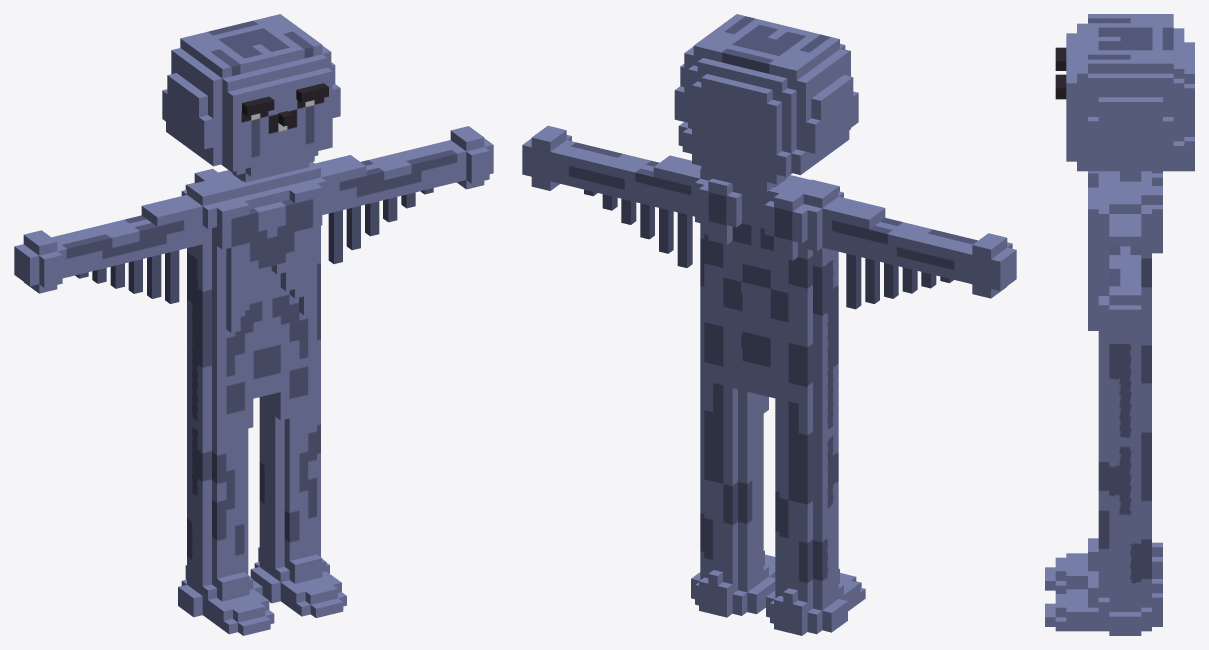
3 views of the same model, side by side, from view 1: azimuth 30°, elevation 25°; view 2: azimuth 150°, elevation 25°; view 3: azimuth 270°, elevation 25° (orthographic). The views are drawn at different scales.
Visible parts, largest first — view 1: potwor_potwor1.001; view 2: potwor_potwor1.001; view 3: potwor_potwor1.001.
Boxes of the visible parts, left/top/right/bottom form: potwor_potwor1.001: left=14, top=14, right=493, bottom=635; potwor_potwor1.001: left=522, top=14, right=1016, bottom=635; potwor_potwor1.001: left=1045, top=14, right=1194, bottom=635.
Size of the model in its own units: 5.1 by 5.8 by 1.4.
1 material, 1 textured.
